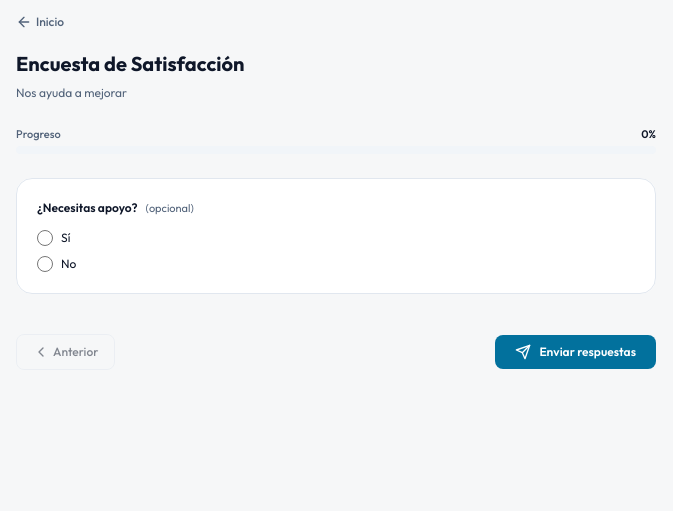
SurveyPublicRenderer — flujo y envío › muestra preguntas dependientes reactivamente y valida solo las visibles
Check: the heading "Encuesta de Satisfacción" is shown, box [16, 50, 244, 76]
Check: the field labelled "¿Qué apoyo necesitas?" is not shown
Click the radio button labelled "Sí".
click(45, 238)  # box [37, 230, 53, 246]
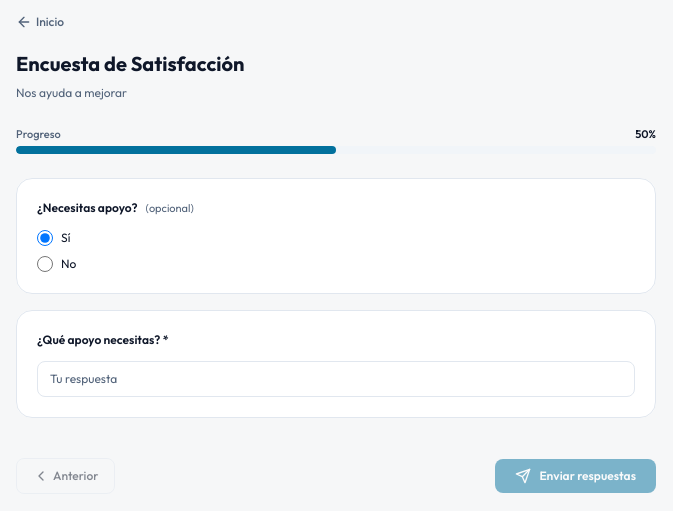
Check: the field named "¿Qué apoyo necesitas?" is shown, box [37, 361, 635, 397]
Check: the button "Enviar respuestas" is disabled, box [495, 459, 656, 493]
Click the radio button labelled "No".
click(45, 264)  # box [37, 256, 53, 272]
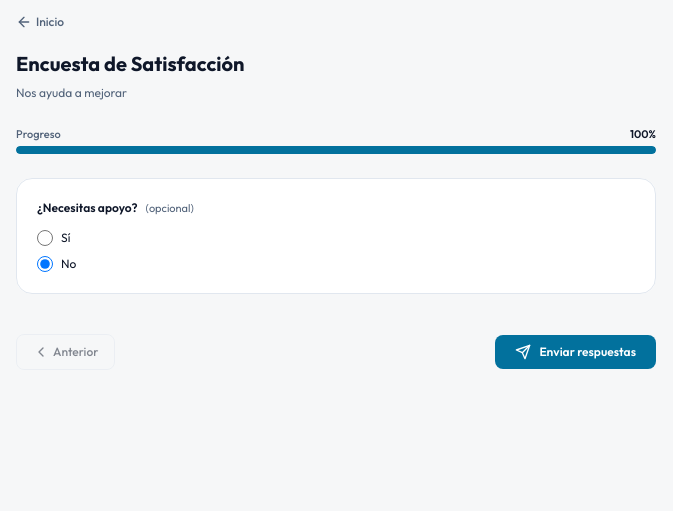
Check: the text labelled "¿Qué apoyo necesitas?" is gone
Check: the button "Enviar respuestas" is enabled
Click the button "Enviar respuestas".
click(576, 352)  # box [495, 335, 656, 369]
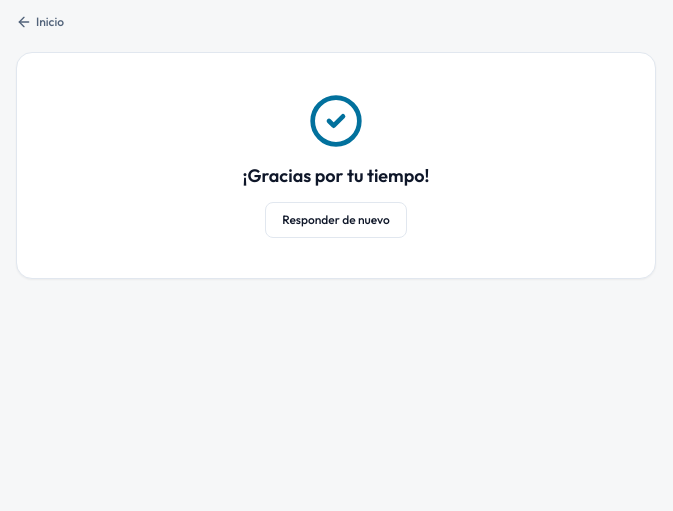
Check: the heading "¡Gracias por tu tiempo!" is shown, box [242, 164, 430, 186]
